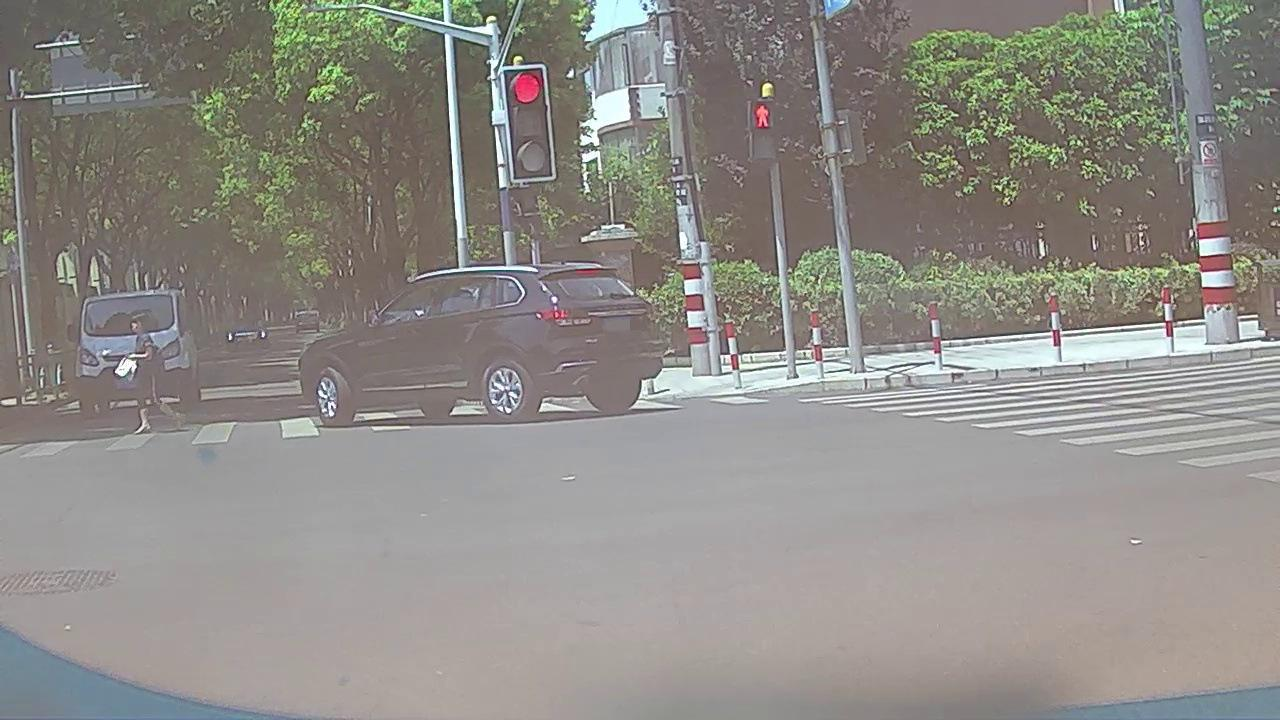traffic_light: (506, 70, 548, 179)
